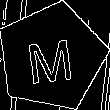M_N: (26, 30, 77, 85)
